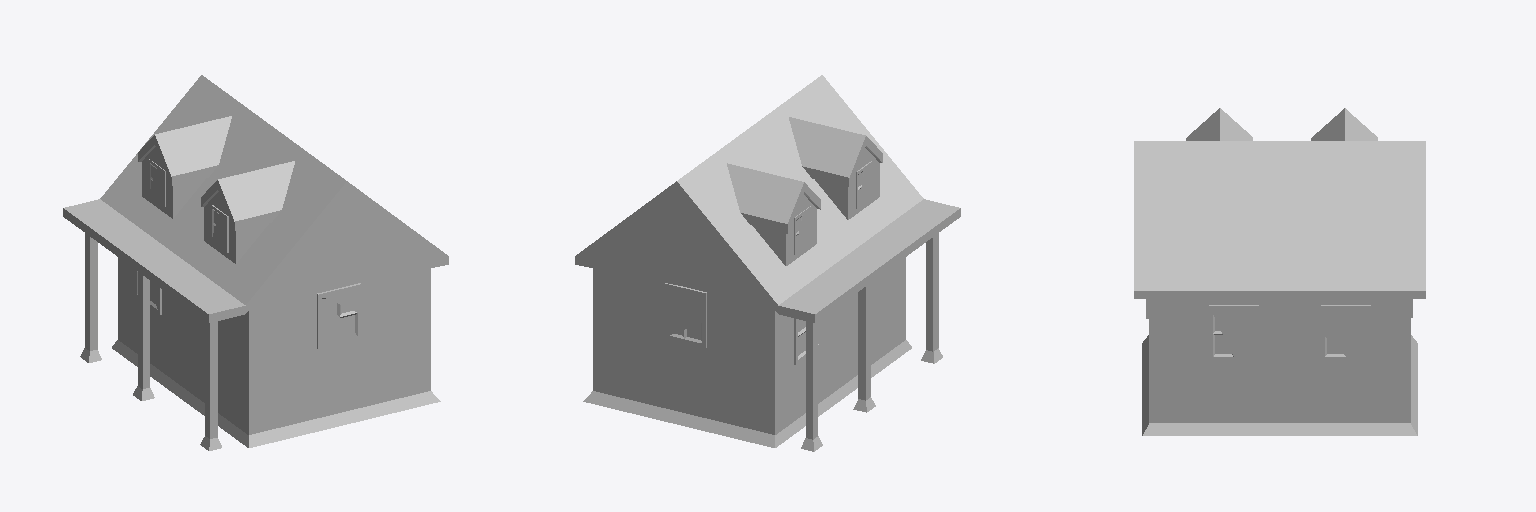
Rendered from house.obj.
The picture shows the model from 3 angles: view 1: azimuth 30°, elevation 25°; view 2: azimuth 150°, elevation 25°; view 3: azimuth 270°, elevation 25°; orthographic projection.
Parts seen in each view (by area): view 1: HOUSE_Cube.003; view 2: HOUSE_Cube.003; view 3: HOUSE_Cube.003.
Part boxes in pixels (left/top/right/bottom): HOUSE_Cube.003: left=63, top=75, right=448, bottom=450; HOUSE_Cube.003: left=575, top=75, right=960, bottom=451; HOUSE_Cube.003: left=1134, top=108, right=1425, bottom=435.
Size of the model in its own units: 6.5 by 6.41 by 6.83.